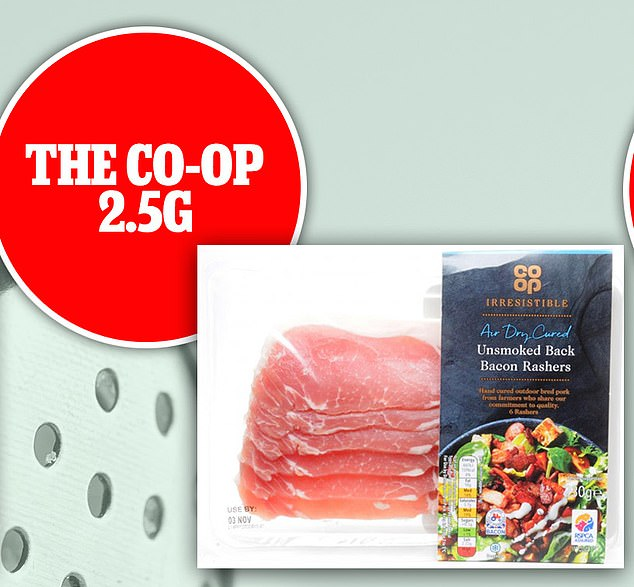bacon: (239, 319, 427, 529)
